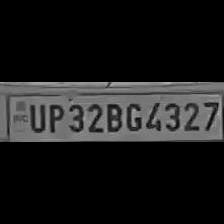2: (84, 99, 104, 133), (180, 98, 200, 132)
3: (64, 100, 84, 134), (162, 100, 180, 132)
4: (144, 98, 162, 132)
7: (200, 97, 218, 131)
B: (103, 100, 123, 132)
G: (122, 100, 142, 132)
P: (46, 100, 64, 134)
U: (25, 101, 45, 133)
